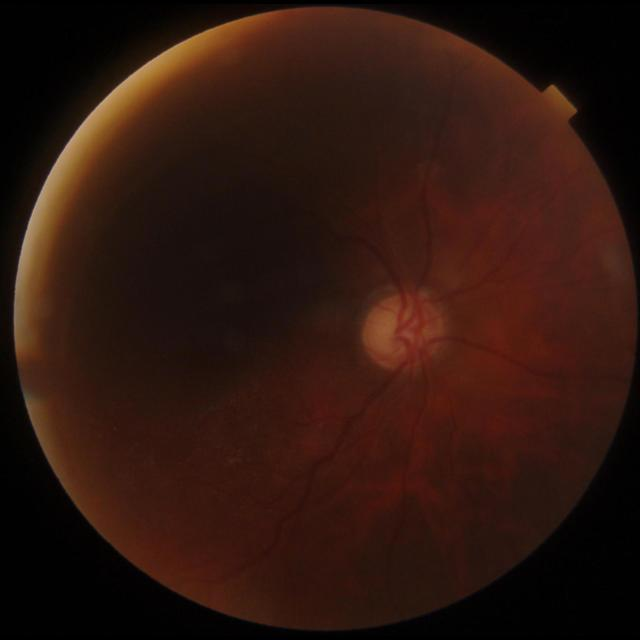OC: (388, 327, 415, 351)
OD: (363, 292, 447, 374)
